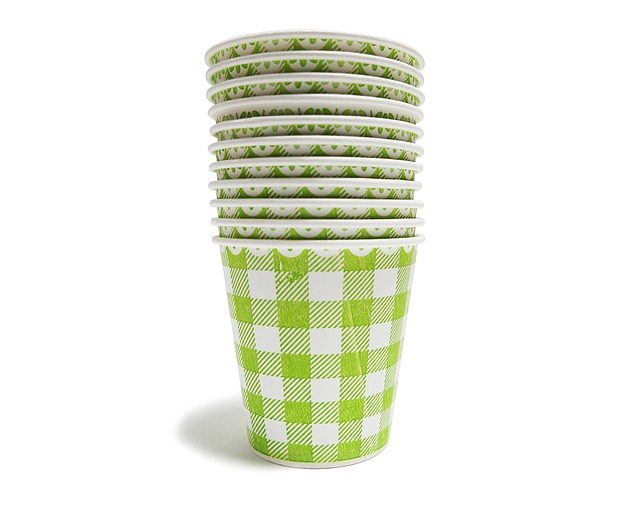cup: (204, 229, 431, 480)
